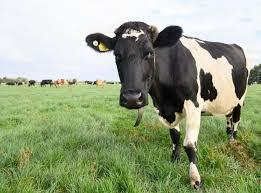cow: (85, 21, 251, 193), (54, 78, 69, 88), (40, 79, 53, 87), (92, 79, 105, 87), (67, 78, 77, 86), (28, 79, 37, 87)
